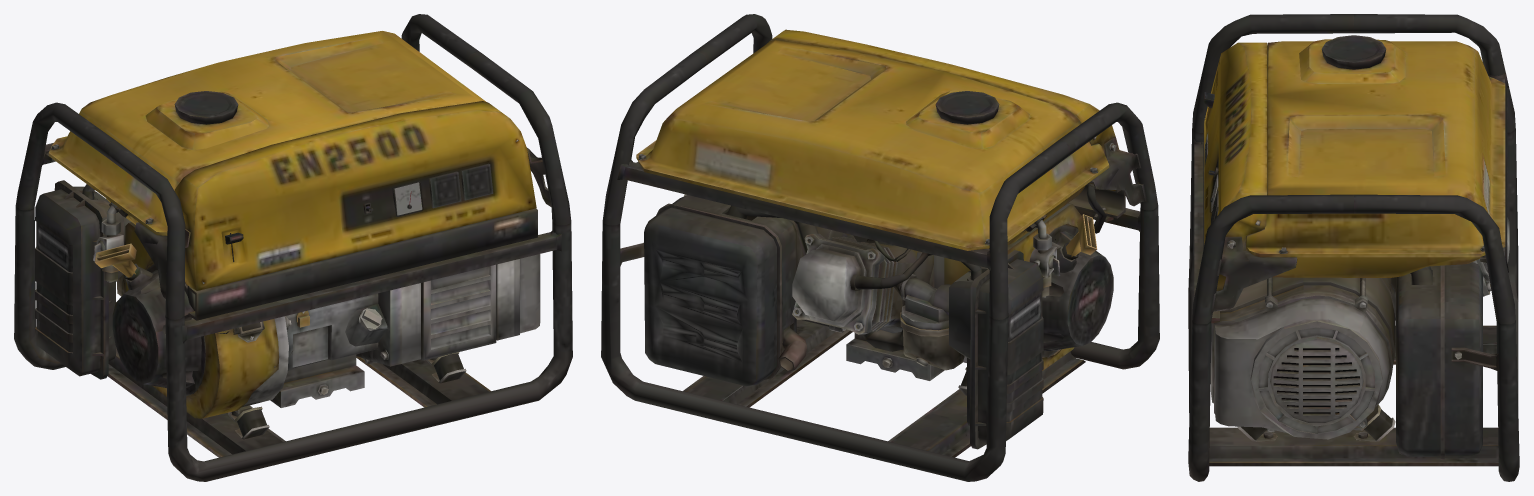
Rendered from portable_generator.glb.
3 renders of one model, left to right at view 1: azimuth 30°, elevation 25°; view 2: azimuth 150°, elevation 25°; view 3: azimuth 270°, elevation 25°, orthographic.
Parts seen in each view (by area): view 1: portable_generator; view 2: portable_generator; view 3: portable_generator.
Part boxes in pixels (x1,y1,x2,y2): portable_generator: (14, 14, 572, 481); portable_generator: (601, 14, 1159, 481); portable_generator: (1188, 14, 1519, 481).
Size of the model in its own units: 0.8166 by 0.5753 by 0.564.
Materials: 2 (2 with a texture image).
